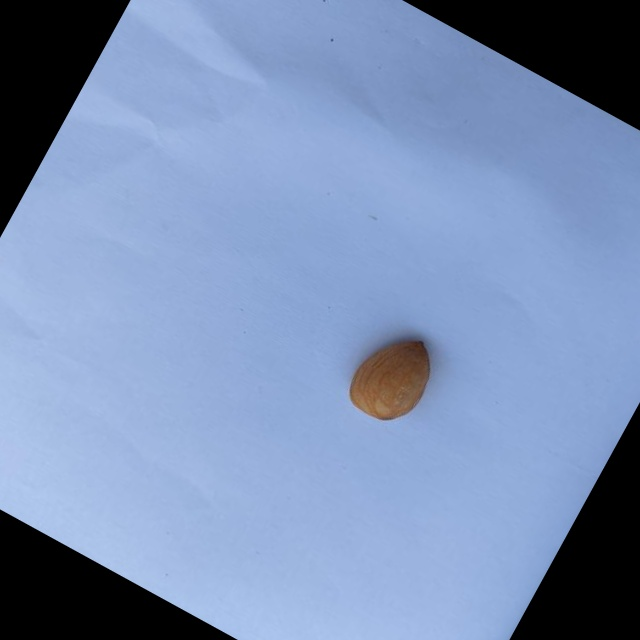grade2: (333, 315, 449, 438)
